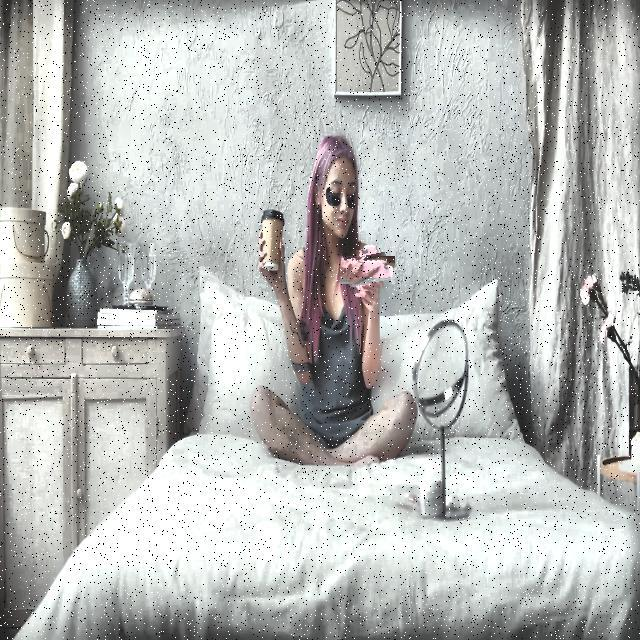Phone: (344, 248, 390, 292)
